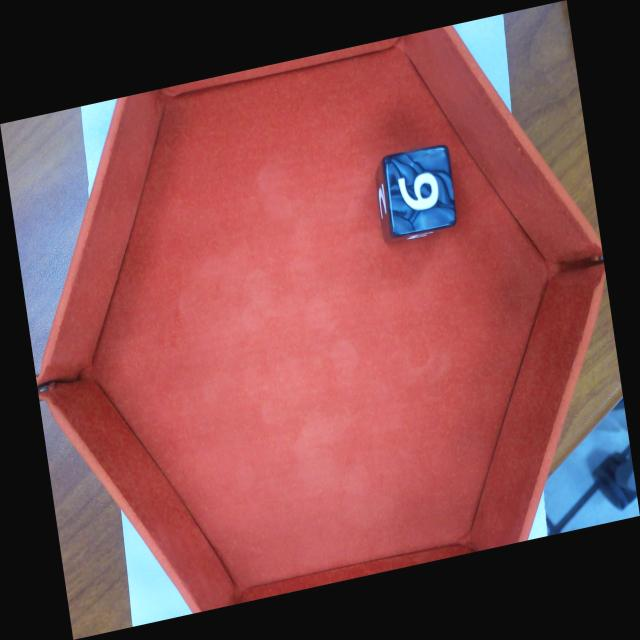dice: (384, 143, 459, 237)
